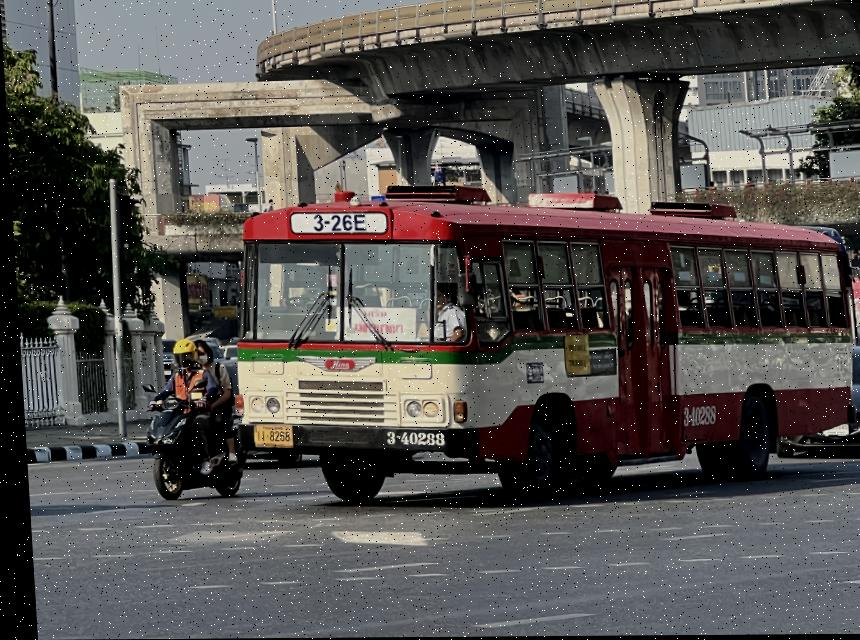BMTA-bus: (230, 191, 854, 506)
Bus Line Number: (304, 212, 373, 236)
Bus Side Number: (374, 429, 446, 449), (673, 406, 716, 429)
Destination Sign: (332, 309, 412, 343)
